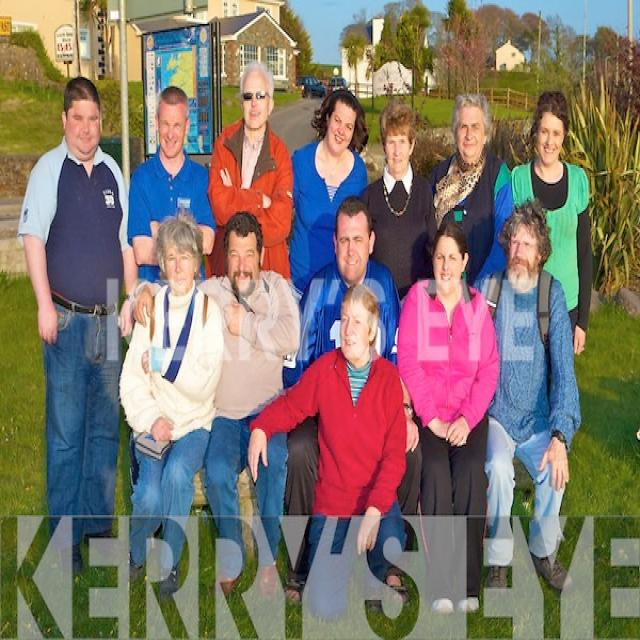body: (126, 206, 302, 604), (16, 70, 141, 572), (282, 192, 424, 605), (244, 280, 411, 626), (464, 195, 577, 597), (114, 209, 227, 602), (392, 216, 502, 618), (509, 88, 595, 358), (207, 61, 295, 282), (121, 85, 218, 285), (286, 87, 372, 310), (424, 90, 515, 291), (358, 98, 439, 302)
